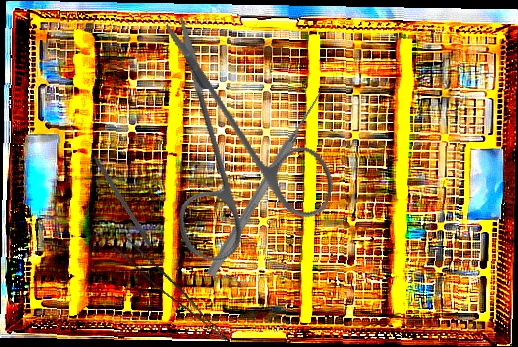Hook Surgical: (84, 140, 154, 248)
Iris Scissors: (93, 12, 371, 293)
Pusher: (204, 89, 327, 279)
Tissue Forceps: (110, 234, 239, 342)
